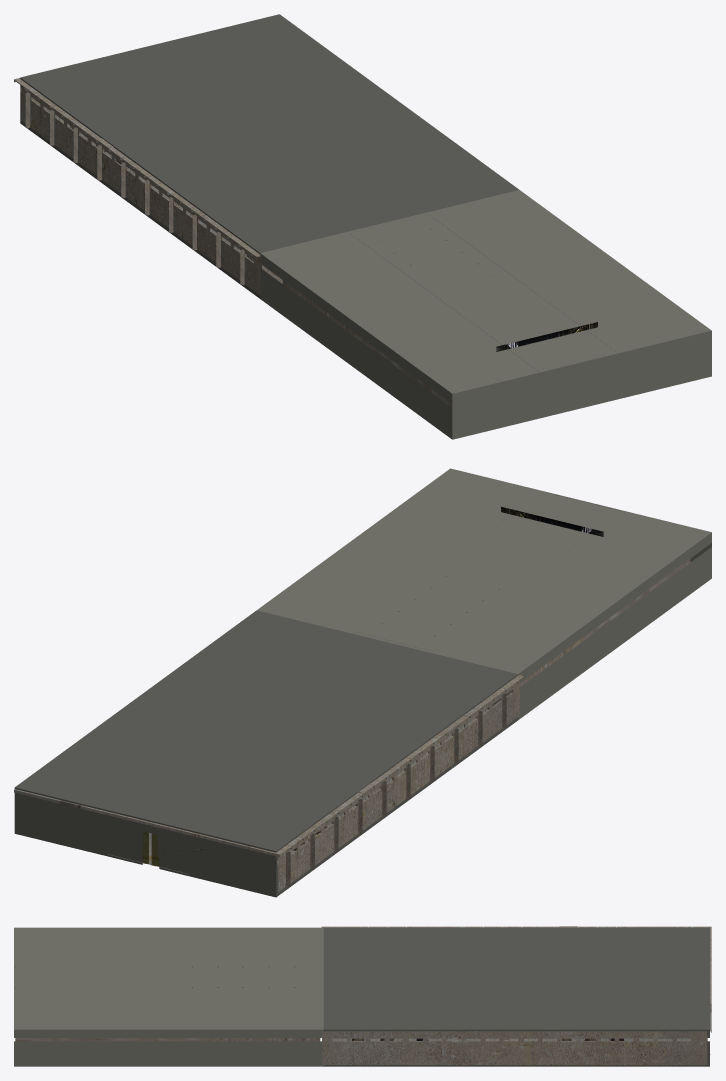
Rendered from hq_hangar.glb.
The picture shows the model from 3 angles, top to bottom: view 1: azimuth 30°, elevation 25°; view 2: azimuth 150°, elevation 25°; view 3: azimuth 270°, elevation 25°; orthographic projection. The views are drawn at different scales.
Visible parts, largest first — view 1: object 13, object 18, object 19; view 2: object 18, object 13, object 19; view 3: object 13, object 18, object 19.
Boxes of the visible parts, box(x1,y1,x2,y2) form: object 13: box(260, 190, 711, 439); object 18: box(20, 14, 519, 298); object 19: box(14, 78, 282, 295); object 18: box(14, 610, 517, 897); object 13: box(257, 468, 711, 720); object 19: box(14, 674, 524, 892); object 13: box(14, 927, 323, 1066); object 18: box(323, 927, 709, 1066); object 19: box(321, 926, 711, 1064).
Size of the model in its own units: 62.84 by 12.2 by 177.
Materials: 38 (38 with a texture image).
